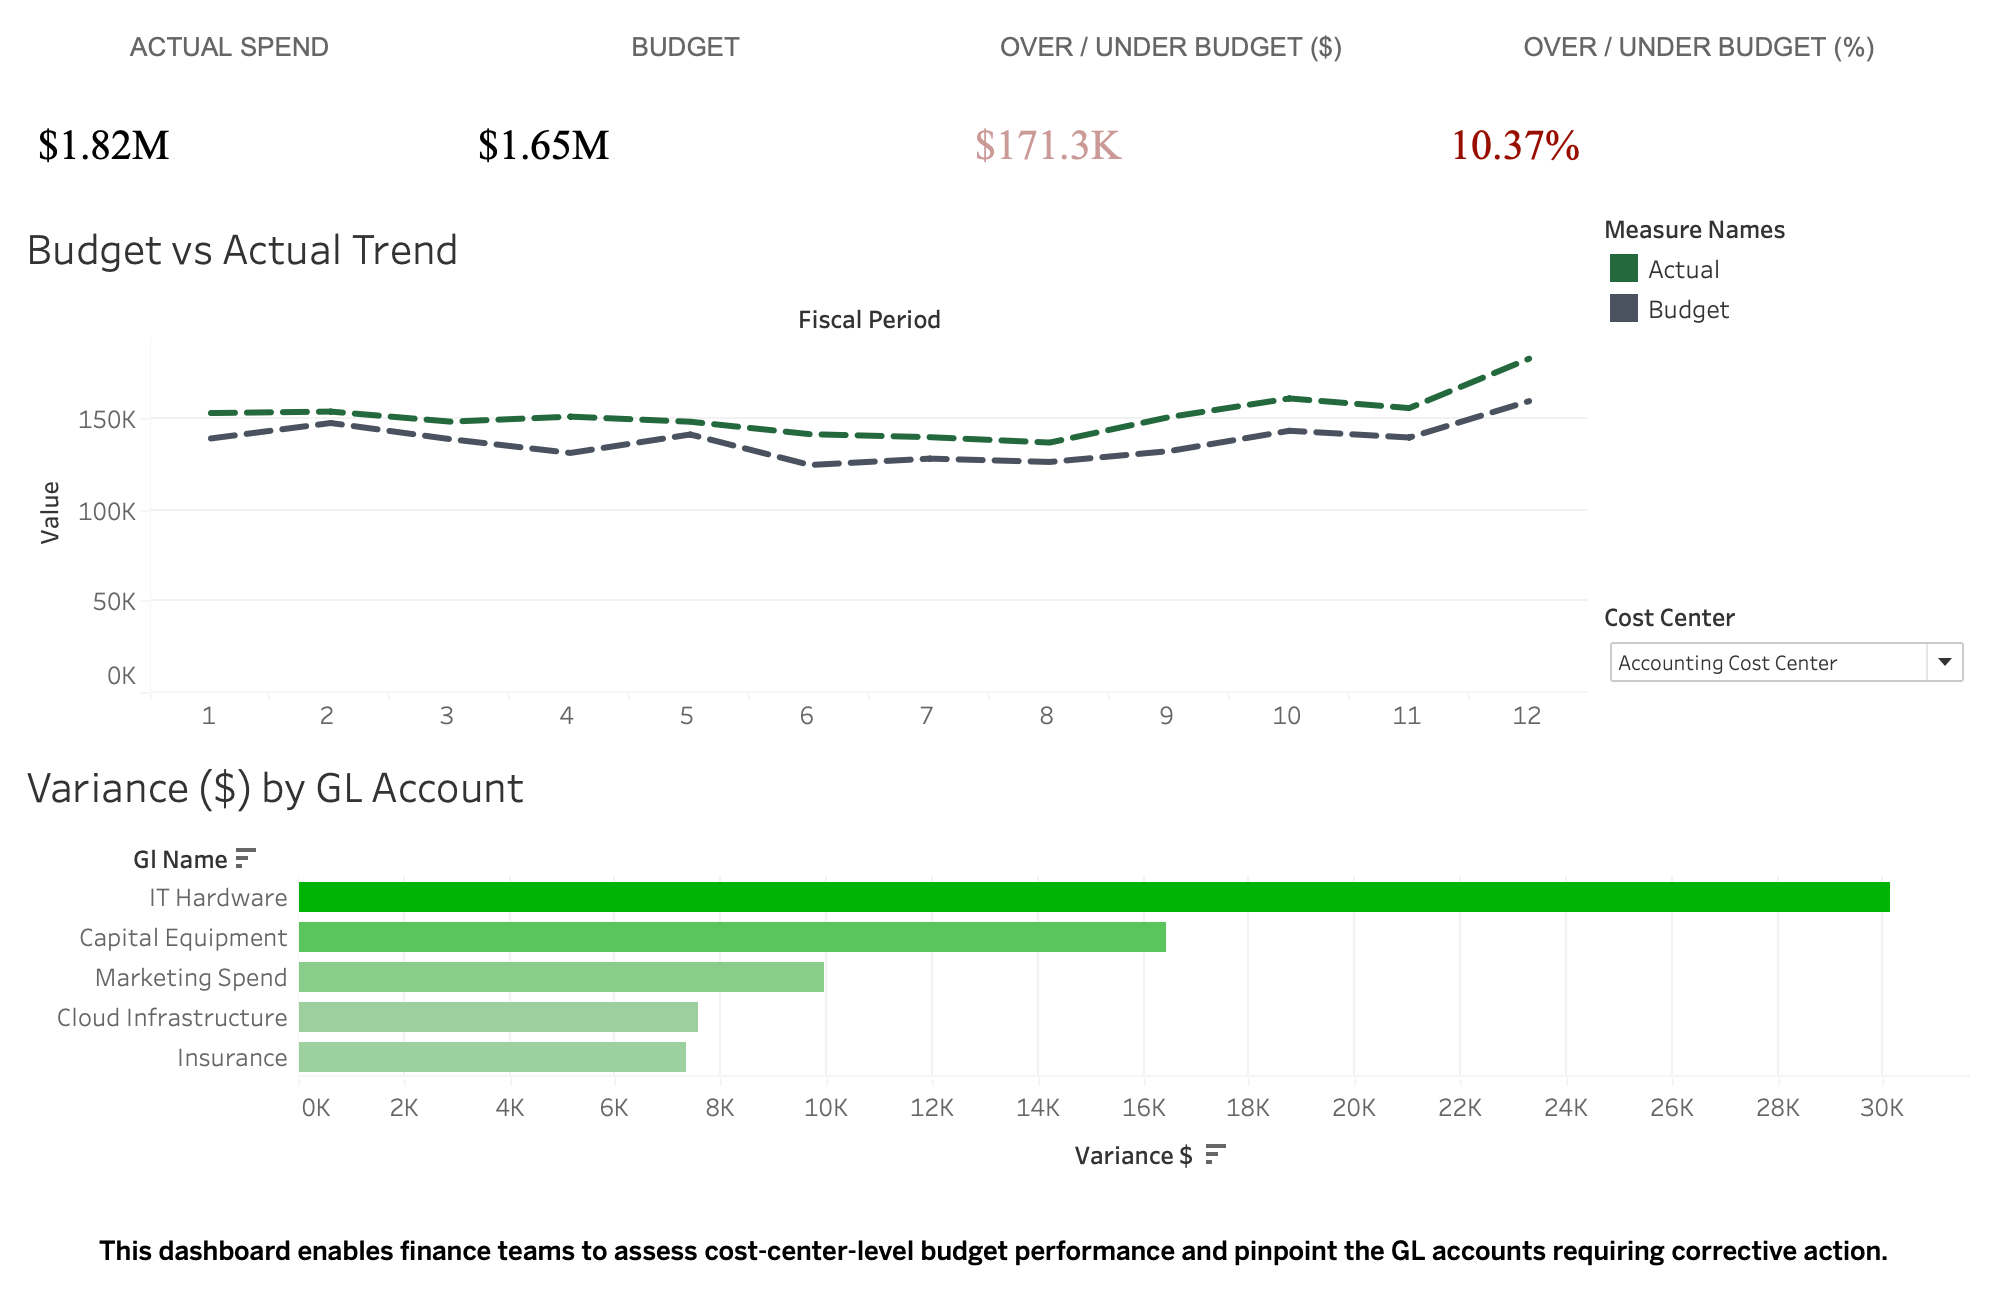

Layout of this report page (visuals, bound fields, positions):
{"tool":"tableau","page":{"name":"Cost Center Drilldown","canvas":[1000,1000],"units":"permille","ordinal":0},"visuals":[{"type":"text","box":[8,12.2,220,56.5]},{"type":"text","box":[228,12.2,235.9,56.5]},{"type":"text","box":[463.9,12.2,249,56.5]},{"type":"text","box":[712.9,12.2,279.1,56.5]},{"type":"worksheet","title":"CC KPI Summary (5)","mark":"Text","box":[8,68.8,220,92]},{"type":"worksheet","title":"CC KPI Summary (6)","mark":"Text","box":[228,68.8,235.9,92]},{"type":"worksheet","title":"CC KPI Summary (7)","mark":"Text","box":[463.9,68.8,249,92]},{"type":"worksheet","title":"CC KPI Summary (8)","mark":"Text","box":[712.9,68.8,279.1,92]},{"type":"worksheet","title":"CC - Monthly Trend","mark":"Line","cols":["fiscal_period"],"box":[8,160.8,792.9,412]},{"type":"legend","title":"CC - Monthly Trend","param":"[federated.09k086b0wn4mv01gt90ph1weaz7a].[:Measure Names]","box":[800.9,160.8,191.1,297.1]},{"type":"filter","title":"CC - Monthly Trend","param":"[federated.09k086b0wn4mv01gt90ph1weaz7a].[none:cost_center_name:nk]","box":[800.9,457.9,191.1,114.9]},{"type":"worksheet","title":"CC - Variance by GL Account","mark":"Bar","rows":["gl_name"],"cols":["Calculation_5434155918152953859"],"box":[8,572.7,984,366]},{"type":"text","box":[8,938.7,984,49]}]}

Visuals, with their boxes on the dashboard's canvas, which has no fixed pixel size, in thousandths of its width and height (x1, y1, x2, y2). These are canvas units, not pixel positions in the 1990x1298 screenshot, which may show the page scaled, cropped or inside an application window:
text: locate(8, 12, 228, 69)
text: locate(228, 12, 464, 69)
text: locate(464, 12, 713, 69)
text: locate(713, 12, 992, 69)
"CC KPI Summary (5)" worksheet (Text marks): locate(8, 69, 228, 161)
"CC KPI Summary (6)" worksheet (Text marks): locate(228, 69, 464, 161)
"CC KPI Summary (7)" worksheet (Text marks): locate(464, 69, 713, 161)
"CC KPI Summary (8)" worksheet (Text marks): locate(713, 69, 992, 161)
"CC - Monthly Trend" worksheet (Line marks): locate(8, 161, 801, 573)
"CC - Monthly Trend" legend: locate(801, 161, 992, 458)
"CC - Monthly Trend" filter: locate(801, 458, 992, 573)
"CC - Variance by GL Account" worksheet (Bar marks): locate(8, 573, 992, 939)
text: locate(8, 939, 992, 988)
